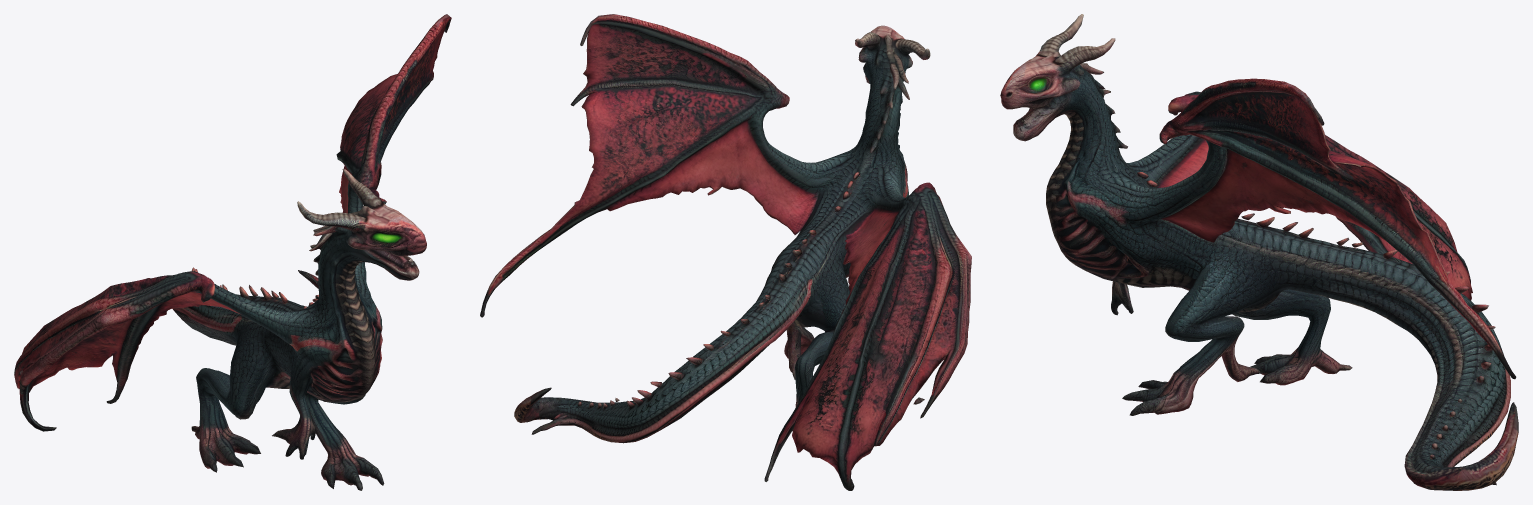
Rendered from zombie-dragon.glb.
3 renders of one model, left to right at view 1: azimuth 30°, elevation 25°; view 2: azimuth 150°, elevation 25°; view 3: azimuth 270°, elevation 25°, orthographic. The views are drawn at different scales.
Bounding box in the file's own units: 1.91 × 1.63 × 1.87.
Materials: 1 (1 with a texture image).
